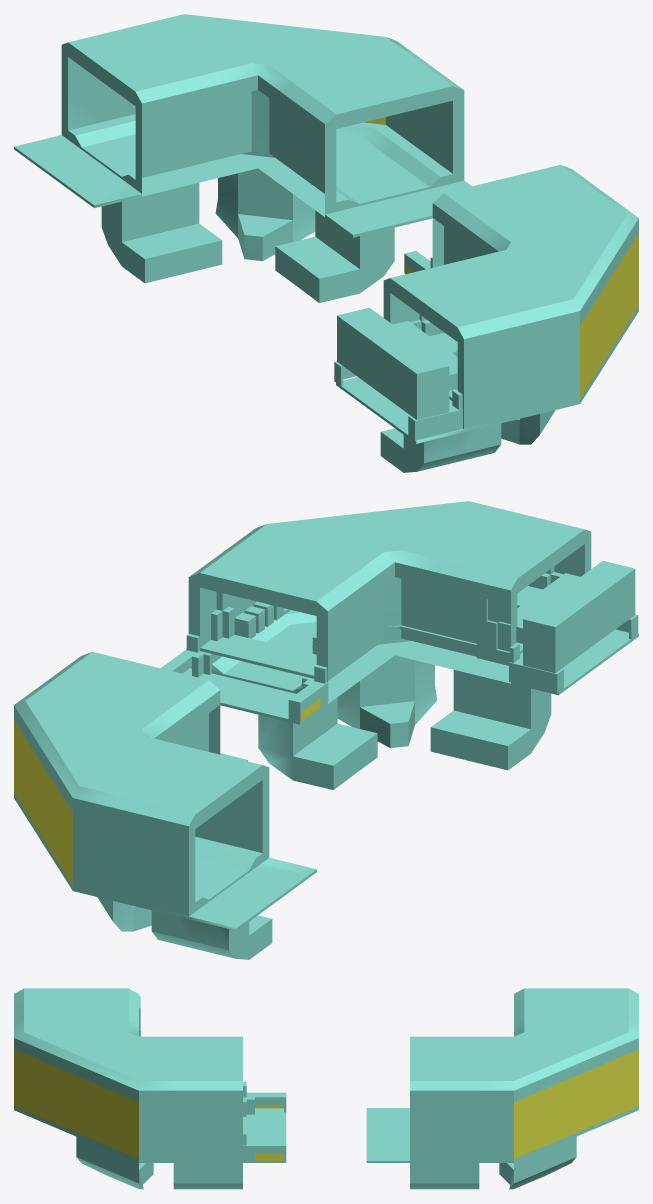
The model's file is Lab.fbx.
3 renders of one model, top to bottom at view 1: azimuth 30°, elevation 25°; view 2: azimuth 150°, elevation 25°; view 3: azimuth 270°, elevation 25°, orthographic. The views are drawn at different scales.
Visible parts, largest first — view 1: Cube, Cube.004; view 2: Cube, Cube.004; view 3: Cube, Cube.004.
Part boxes in pixels (x1,y1,x2,y2): Cube: (14, 14, 638, 472); Cube.004: (334, 238, 466, 440); Cube: (14, 501, 638, 959); Cube.004: (161, 561, 638, 721); Cube: (14, 988, 638, 1189); Cube.004: (139, 996, 286, 1160).
Bounding box in the file's own units: 13083 × 7610 × 30027.
